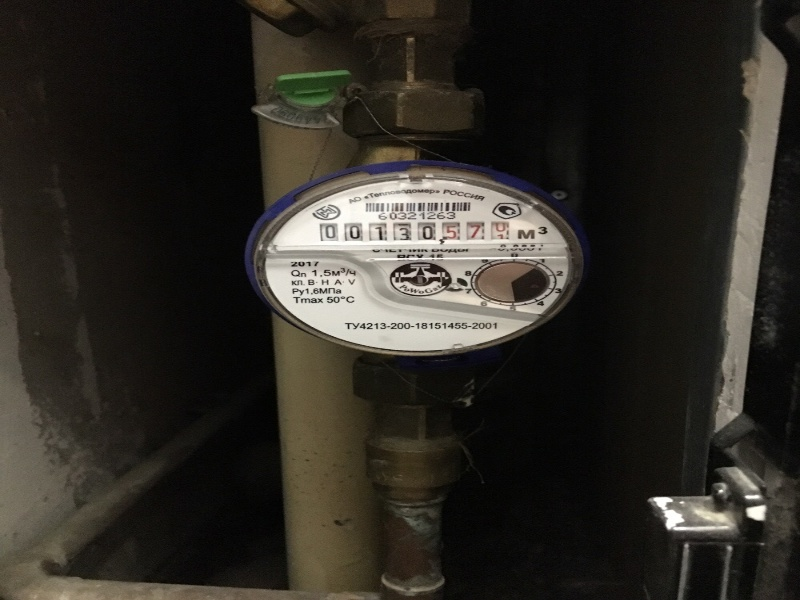dial: (312, 217, 513, 237)
